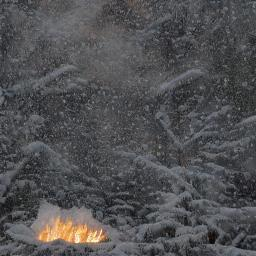Small fire: (34, 217, 111, 250)
